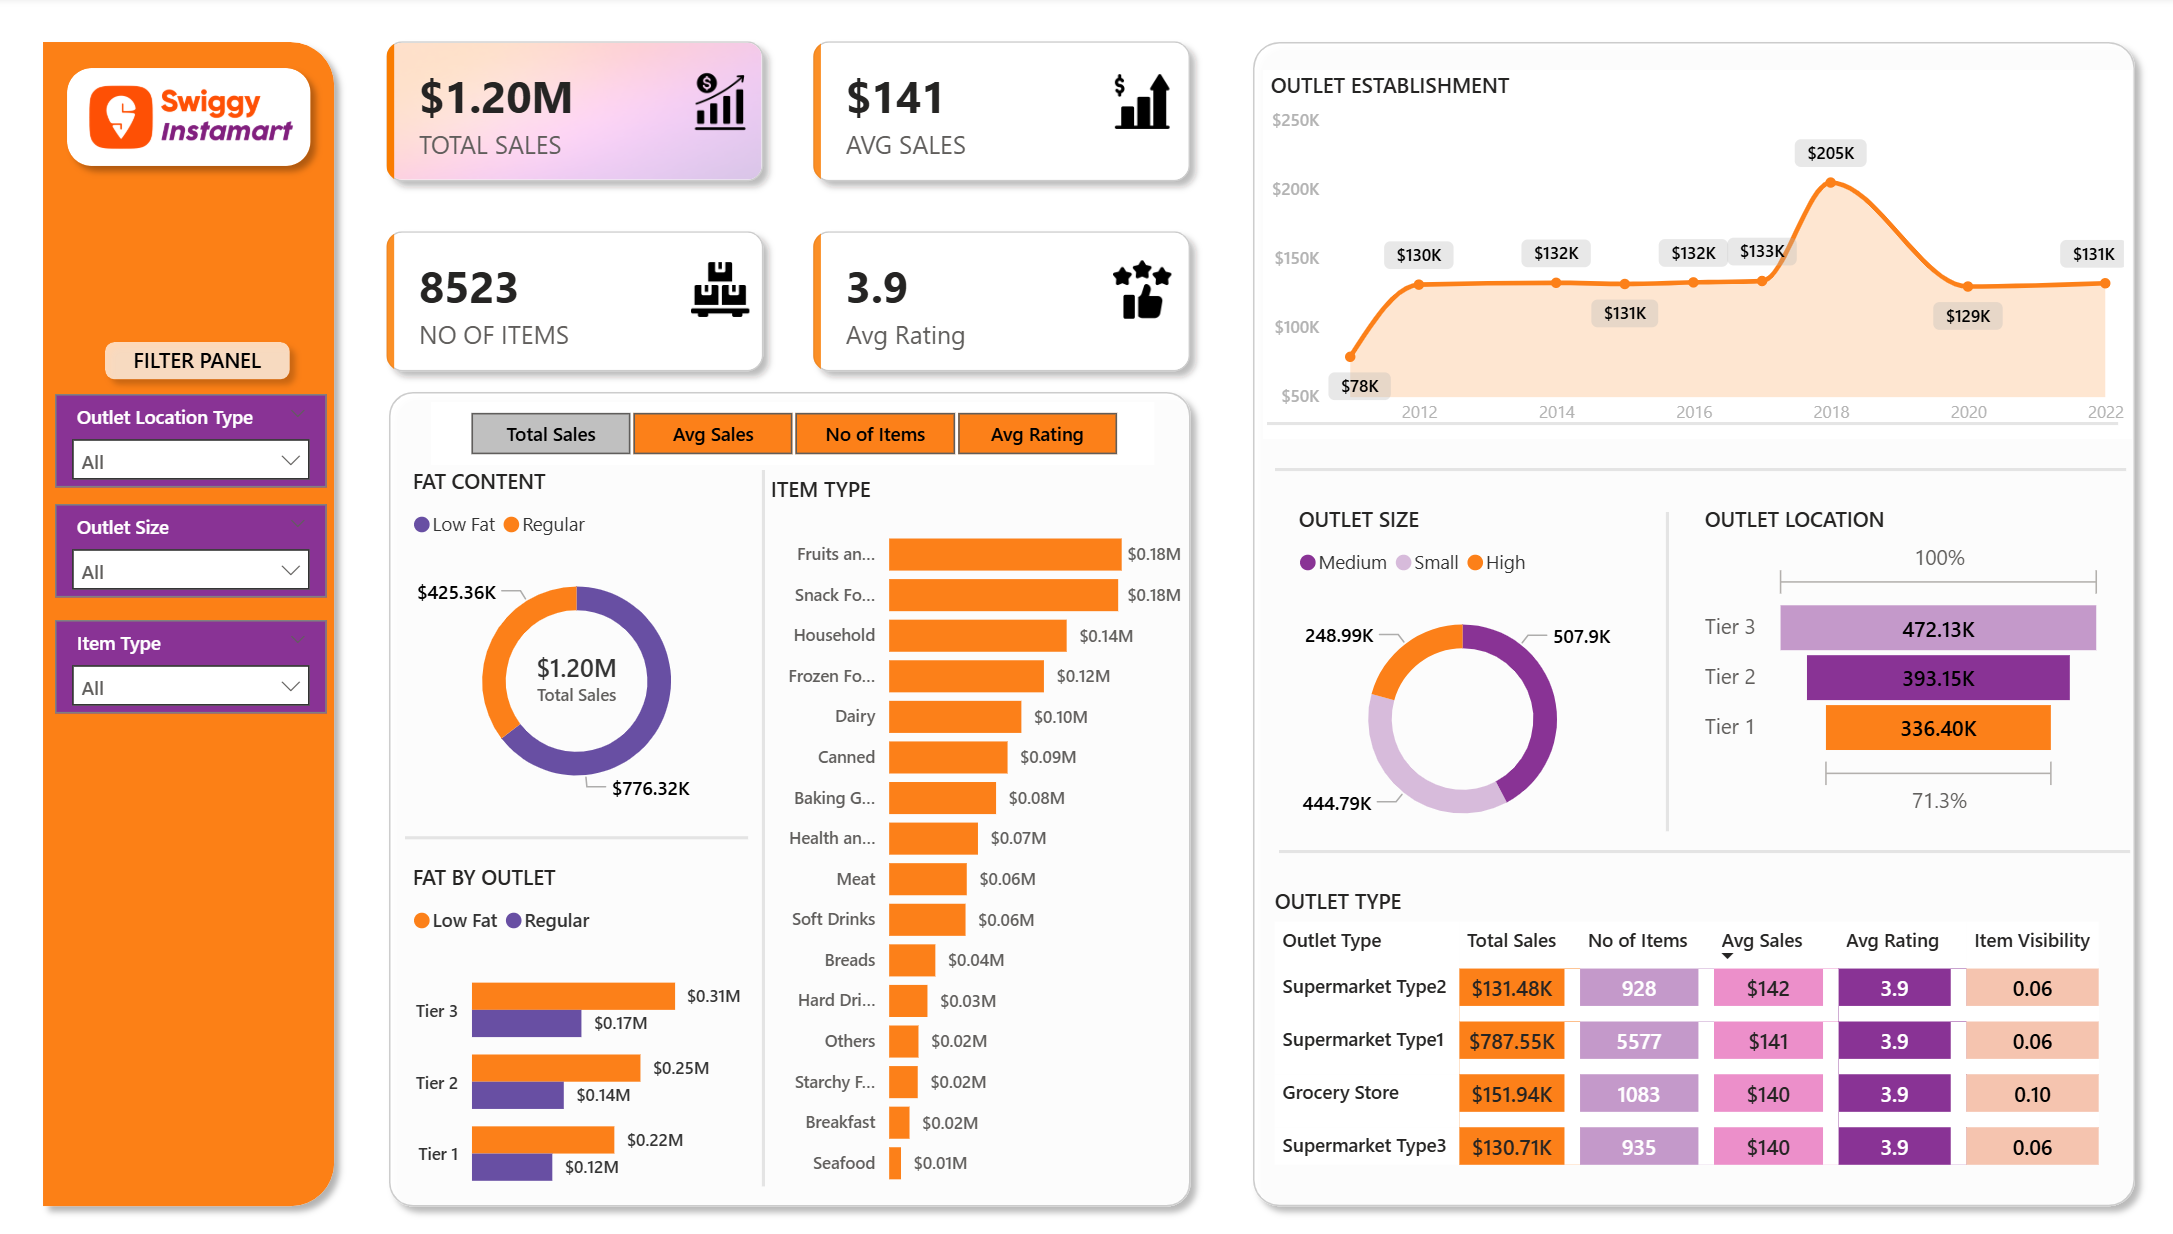

What the dashboard file says about the page in this screenshot:
{"tool":"powerbi","page":{"name":"Page 1","canvas":[1400,800],"ordinal":0},"visuals":[{"type":"shape","box":[23.7,20.9,205,765.5],"z":0},{"type":"shape","box":[39,37.6,174.3,80.9],"z":1000},{"type":"image","box":[9.8,7,238.4,142.2],"z":2000},{"type":"cardVisual","fields":{"Data":["BlinkIT Grocery Data.Total Sales","BlinkIT Grocery Data.Avg Sales","BlinkIT Grocery Data.No of Items","BlinkIT Grocery Data.Avg Rating"]},"box":[228.7,0,570.3,270.5],"z":3000},{"type":"image","box":[719.5,47.4,37.6,40.4],"z":4000},{"type":"image","box":[719.5,168.7,37.6,40.4],"z":5000},{"type":"image","box":[447.6,47.4,37.6,40.4],"z":6000},{"type":"image","box":[447.6,168.7,37.6,40.4],"z":7000},{"type":"shape","box":[245.4,245.4,532.7,541],"z":8000},{"type":"donutChart","title":"FAT CONTENT","fields":{"Y":["BlinkIT Grocery Data.Total Sales"],"Category":["BlinkIT Grocery Data.Item Fat Content"]},"box":[264.9,301.2,220.3,230.1],"z":9000},{"type":"slicer","fields":{"Values":["Metrics.Metrics"]},"box":[281.7,260.8,464.3,40.4],"z":10000},{"type":"cardVisual","fields":{"Data":["BlinkIT Grocery Data.Total Sales"]},"box":[308.2,400.2,133.9,73.9],"z":11000},{"type":"clusteredBarChart","title":"FAT BY OUTLET","fields":{"Y":["BlinkIT Grocery Data.Total Sales"],"Category":["BlinkIT Grocery Data.Outlet Location Type"],"Series":["BlinkIT Grocery Data.Item Fat Content"]},"box":[264.9,556.4,220.3,230.1],"z":12000},{"type":"shape","box":[264.9,534.1,220.3,12.5],"z":13000},{"type":"shape","box":[475.5,304,39,460.2],"z":14000},{"type":"barChart","title":"ITEM TYPE","fields":{"Y":["BlinkIT Grocery Data.Total Sales"],"Category":["BlinkIT Grocery Data.Item Type"]},"box":[495,306.8,273.3,468.5],"z":15000},{"type":"shape","box":[800.4,20.9,584.3,765.5],"z":16000},{"type":"lineChart","title":"OUTLET ESTABLISHMENT ","fields":{"Y":["BlinkIT Grocery Data.Total Sales"],"Category":["BlinkIT Grocery Data.Outlet Establishment Year"]},"box":[815.7,47.4,557.8,237.1],"z":17000},{"type":"shape","box":[822.7,291.4,546.6,25.1],"z":18000},{"type":"donutChart","title":"OUTLET SIZE","fields":{"Y":["Sum(BlinkIT Grocery Data.Sales)"],"Category":["BlinkIT Grocery Data.Outlet Size"]},"box":[833.9,326.3,220.3,230.1],"z":19000},{"type":"shape","box":[1055.6,331.9,39,205],"z":20000},{"type":"funnel","title":"OUTLET LOCATION","fields":{"Y":["Sum(BlinkIT Grocery Data.Sales)"],"Category":["BlinkIT Grocery Data.Outlet Location Type"]},"box":[1094.6,326.3,266.3,205],"z":21000},{"type":"shape","box":[825.5,536.9,546.6,25.1],"z":22000},{"type":"pivotTable","title":"OUTLET TYPE","fields":{"Rows":["BlinkIT Grocery Data.Outlet Type"],"Values":["BlinkIT Grocery Data.Total Sales","BlinkIT Grocery Data.No of Items","BlinkIT Grocery Data.Avg Sales","BlinkIT Grocery Data.Avg Rating","Avg(BlinkIT Grocery Data.Item Visibility)"]},"box":[818.5,571.7,550.8,192.4],"z":23000},{"type":"shape","box":[818.5,262.2,546.6,25.1],"z":24000},{"type":"slicer","fields":{"Values":["BlinkIT Grocery Data.Outlet Size"]},"box":[40.4,326.3,174.3,60],"z":25000},{"type":"slicer","fields":{"Values":["BlinkIT Grocery Data.Outlet Location Type"]},"box":[40.4,255.2,174.3,60],"z":26000},{"type":"slicer","fields":{"Values":["BlinkIT Grocery Data.Item Type"]},"box":[40.4,400.2,174.3,60],"z":27000},{"type":"shape","box":[62.7,213.3,136.7,41.8],"z":28000},{"type":"textbox","box":[43.3,219.6,174.8,41.9],"z":29000}]}

Visuals, with their boxes in screenshot pixels (x1, y1, x2, y2), scaled from the page's 1400x800 canvas onto the 2173x1234 screenshot:
shape: x1=37 y1=32 x2=355 y2=1213
shape: x1=61 y1=58 x2=331 y2=183
image: x1=15 y1=11 x2=385 y2=230
cardVisual - BlinkIT Grocery Data.Total Sales x BlinkIT Grocery Data.Avg Sales: x1=355 y1=0 x2=1240 y2=417
image: x1=1117 y1=73 x2=1175 y2=135
image: x1=1117 y1=260 x2=1175 y2=323
image: x1=695 y1=73 x2=753 y2=135
image: x1=695 y1=260 x2=753 y2=323
shape: x1=381 y1=379 x2=1208 y2=1213
"FAT CONTENT" donutChart: x1=411 y1=465 x2=753 y2=820
slicer - Metrics.Metrics: x1=437 y1=402 x2=1158 y2=465
cardVisual - BlinkIT Grocery Data.Total Sales: x1=478 y1=617 x2=686 y2=731
"FAT BY OUTLET" clusteredBarChart: x1=411 y1=858 x2=753 y2=1213
shape: x1=411 y1=824 x2=753 y2=843
shape: x1=738 y1=469 x2=799 y2=1179
"ITEM TYPE" barChart: x1=768 y1=473 x2=1193 y2=1196
shape: x1=1242 y1=32 x2=2149 y2=1213
"OUTLET ESTABLISHMENT " lineChart: x1=1266 y1=73 x2=2132 y2=439
shape: x1=1277 y1=449 x2=2125 y2=488
"OUTLET SIZE" donutChart: x1=1294 y1=503 x2=1636 y2=858
shape: x1=1638 y1=512 x2=1699 y2=828
"OUTLET LOCATION" funnel: x1=1699 y1=503 x2=2112 y2=820
shape: x1=1281 y1=828 x2=2130 y2=867
"OUTLET TYPE" pivotTable: x1=1270 y1=882 x2=2125 y2=1179
shape: x1=1270 y1=404 x2=2119 y2=443
slicer - BlinkIT Grocery Data.Outlet Size: x1=63 y1=503 x2=333 y2=596
slicer - BlinkIT Grocery Data.Outlet Location Type: x1=63 y1=394 x2=333 y2=486
slicer - BlinkIT Grocery Data.Item Type: x1=63 y1=617 x2=333 y2=710
shape: x1=97 y1=329 x2=309 y2=393
textbox: x1=67 y1=339 x2=339 y2=403
